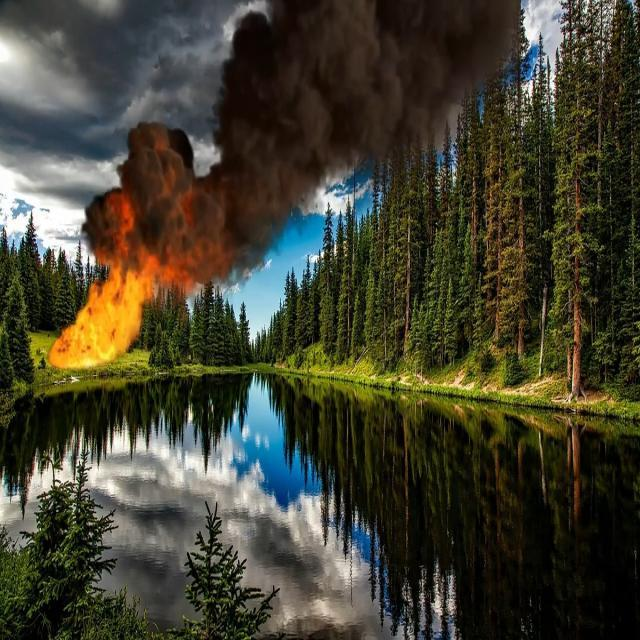Fire: (50, 269, 153, 369)
Smoke: (222, 2, 524, 216)
